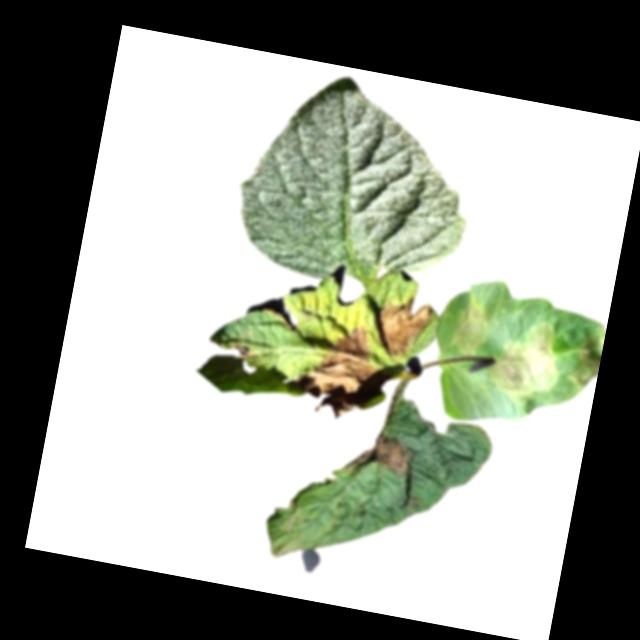Late_blight: (286, 314, 383, 421), (484, 314, 569, 405), (370, 289, 434, 364), (343, 428, 419, 482), (447, 297, 496, 361), (565, 332, 603, 392), (230, 343, 255, 363)
healthy: (229, 61, 488, 302)
